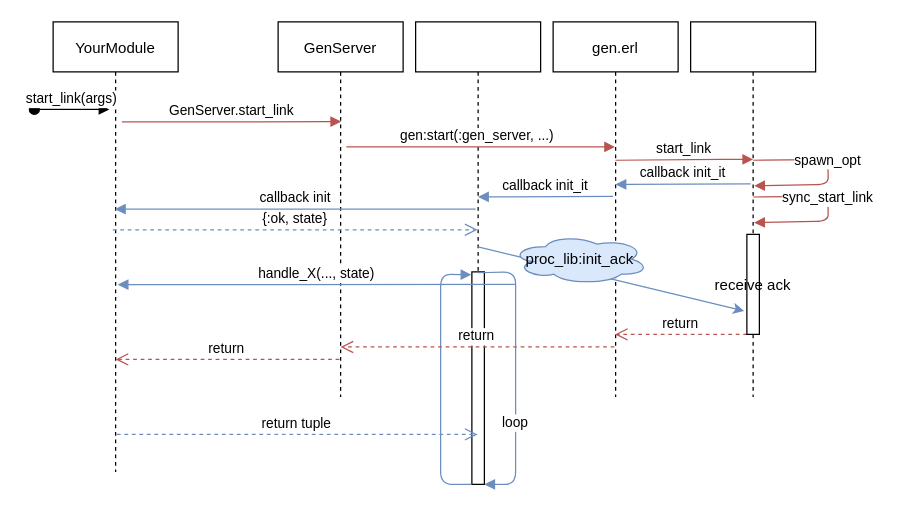
Some shapes in this 898 by 516 pixel diagram are drawn without their labels. The shapes that lost their labels are listed below. From the top down, each one's box as (x1, y1, x2, y2) in pixels, then its label:
(689, 21, 816, 397): proc_lib.erl
(414, 21, 541, 484): gen_server.erl
